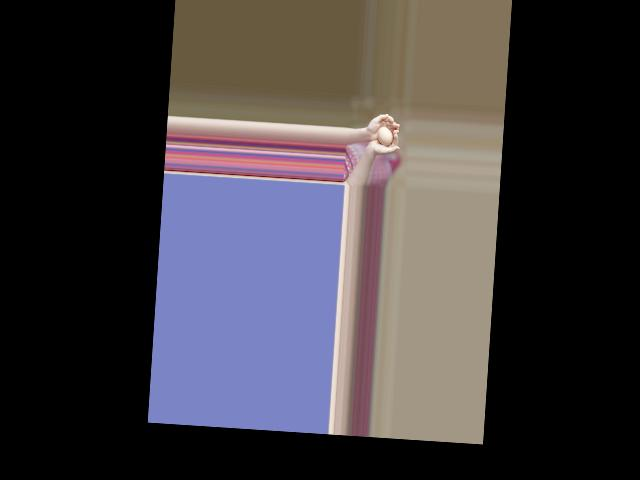egg: (377, 127, 393, 146)
